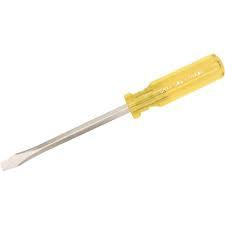screwdriver: (0, 52, 224, 172)
